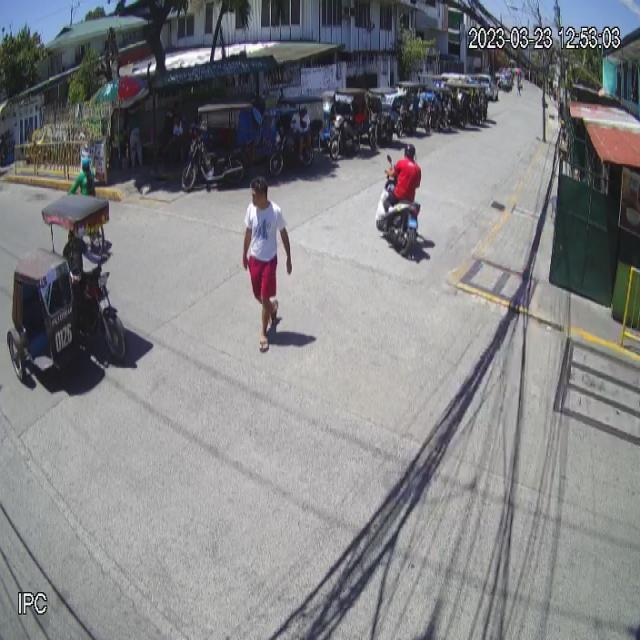Motorcycle: (370, 152, 425, 260)
Tricycle: (6, 192, 128, 390)
